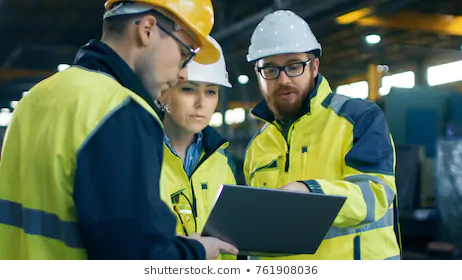Person_wearing_helmet: (99, 0, 223, 71), (245, 7, 318, 84)
